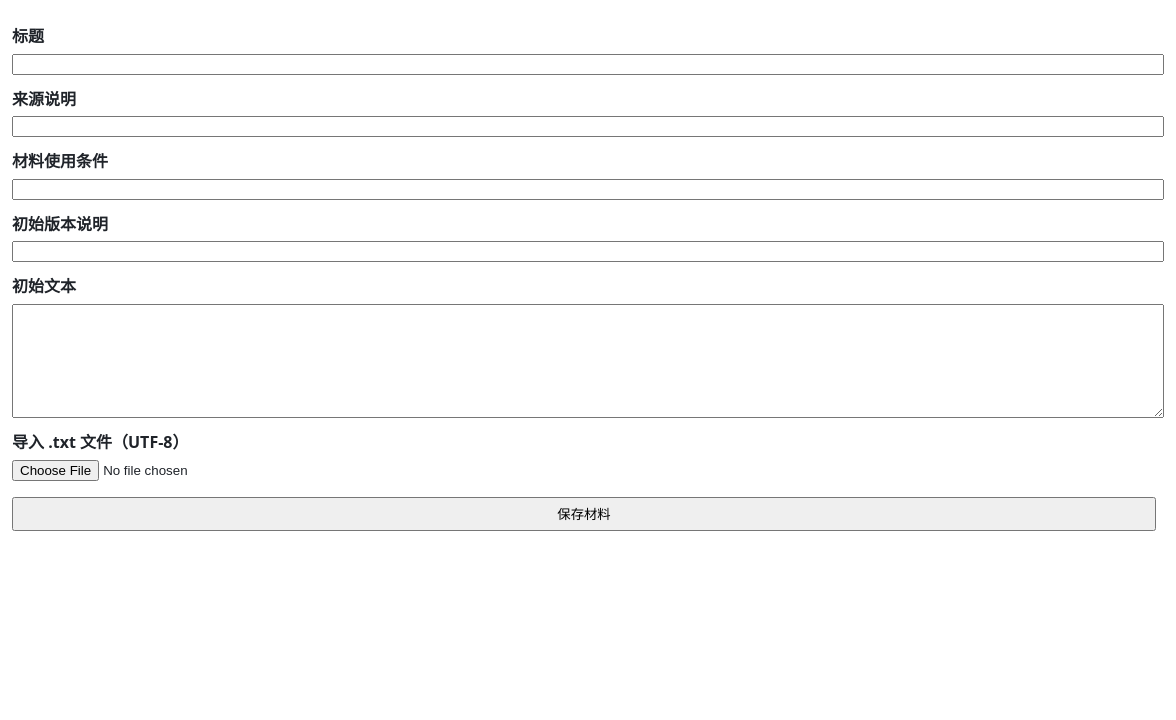
Test: source form › reports an idempotent retry as existing instead of an error
In the field labelled "标题": (588, 64) [12,54,1164,75], type "史記·高祖本紀"
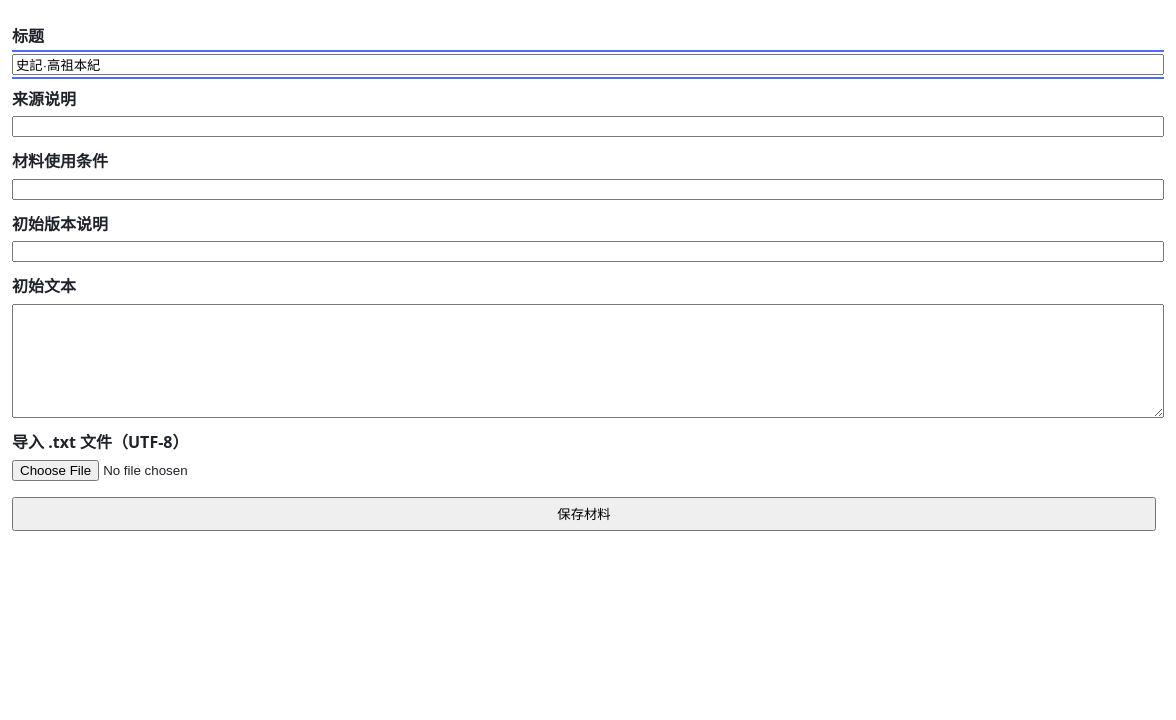
In the text box labelled "初始文本": (588, 361) [12,304,1164,418], type "高祖，沛豐邑中陽里人。"
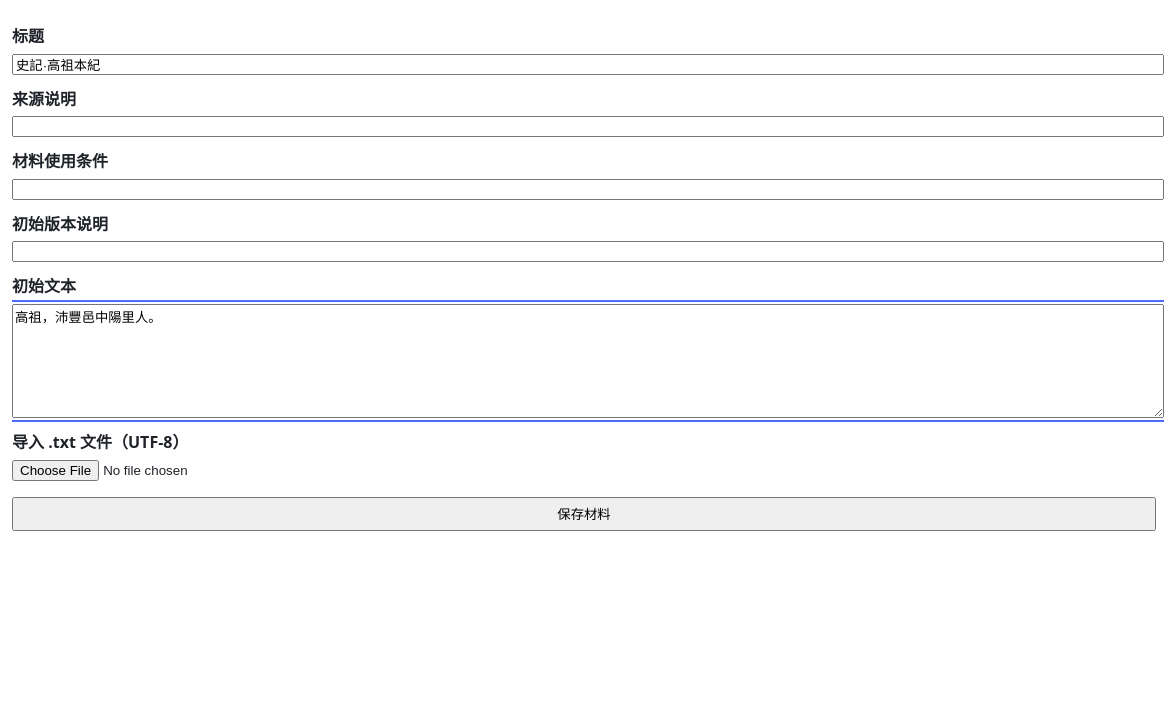
Click the button "保存材料": click(584, 514) [12,497,1156,531]
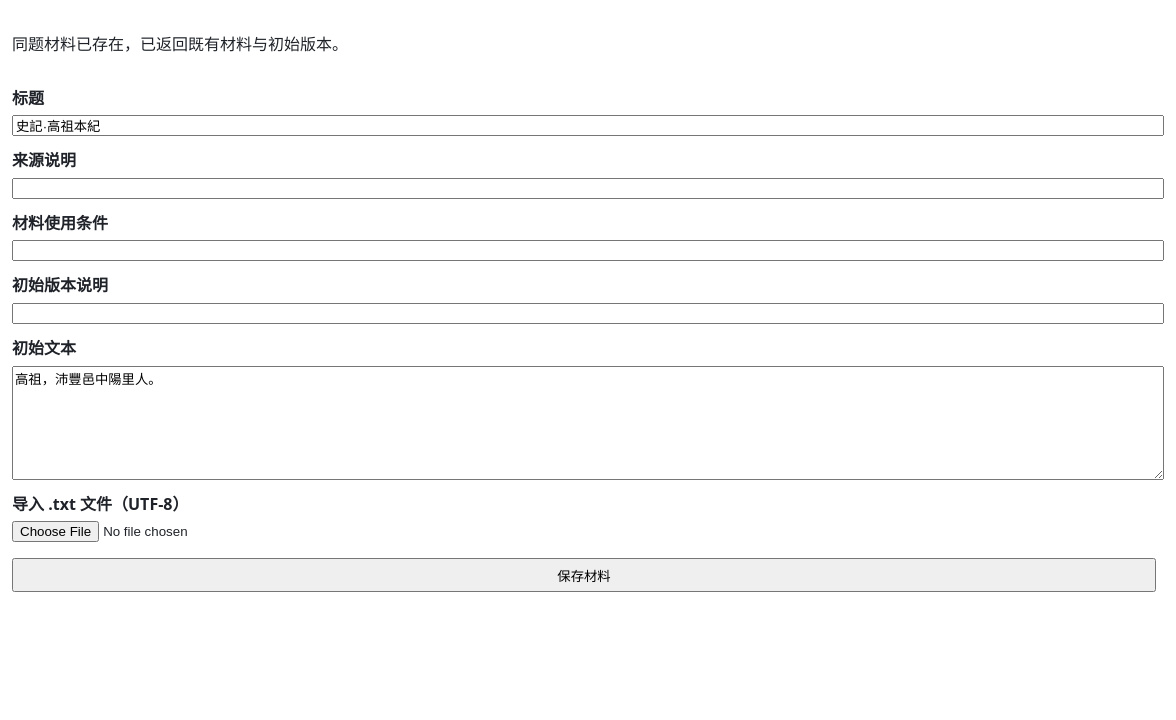
Expected: the message with test id "source-feedback" shows "同题材料已存在", [12,33,348,55]
